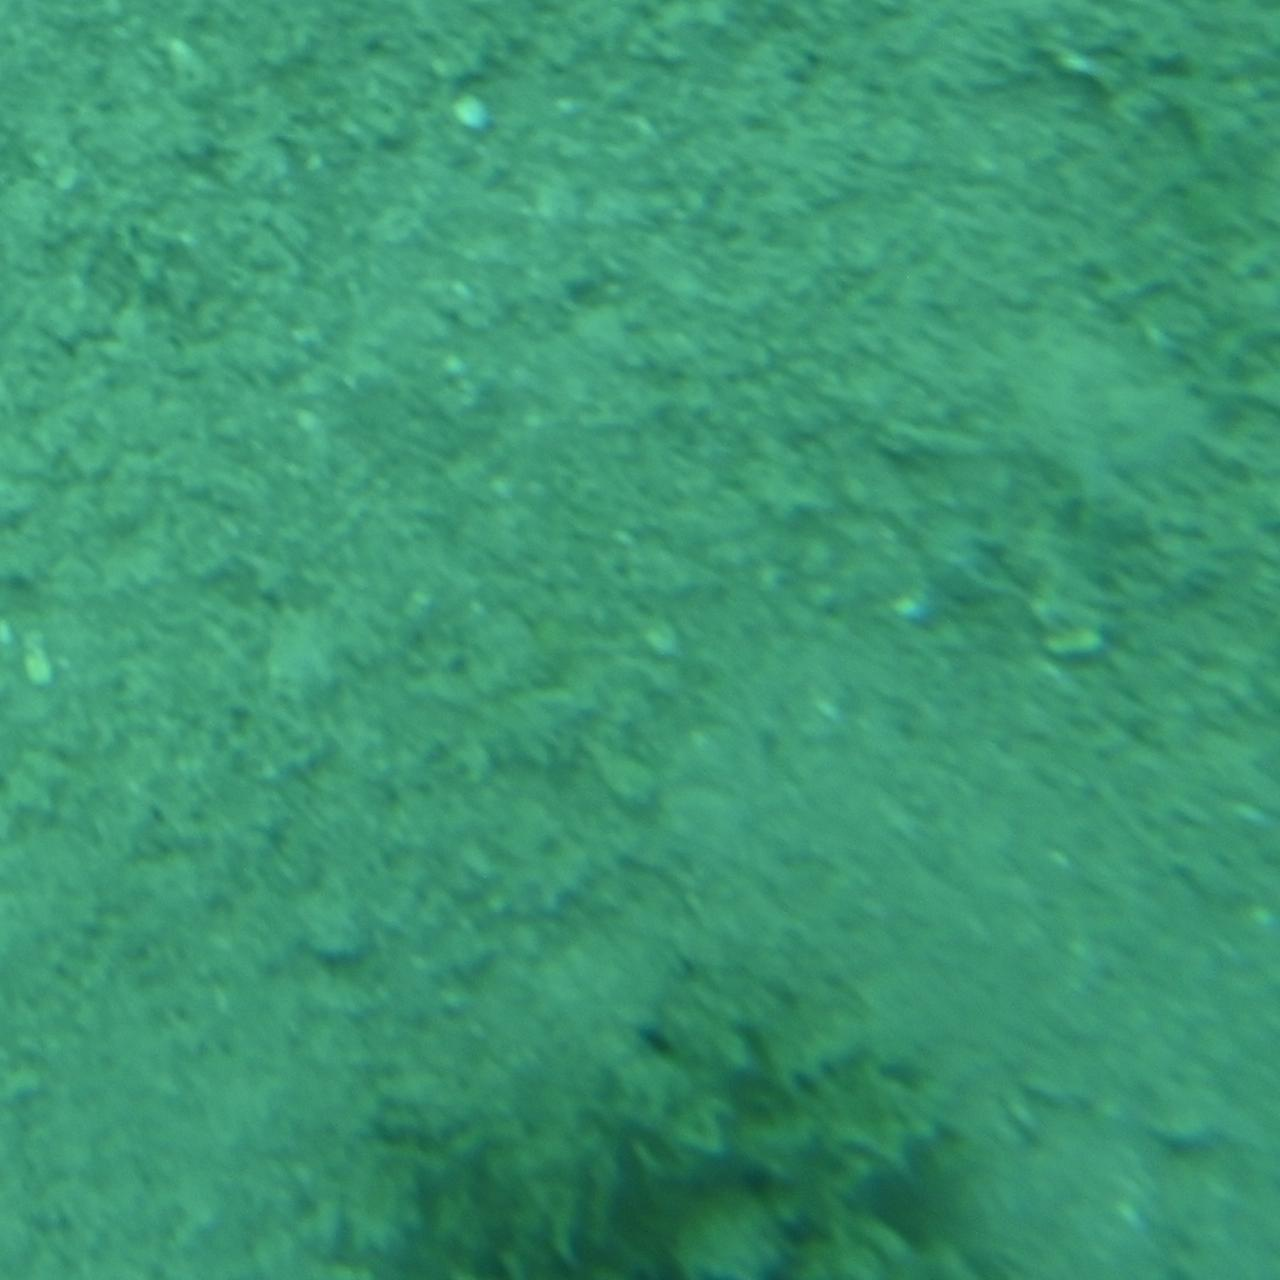Phaeophyceae -cfr Cystoseira-: (319, 960, 961, 1278)
